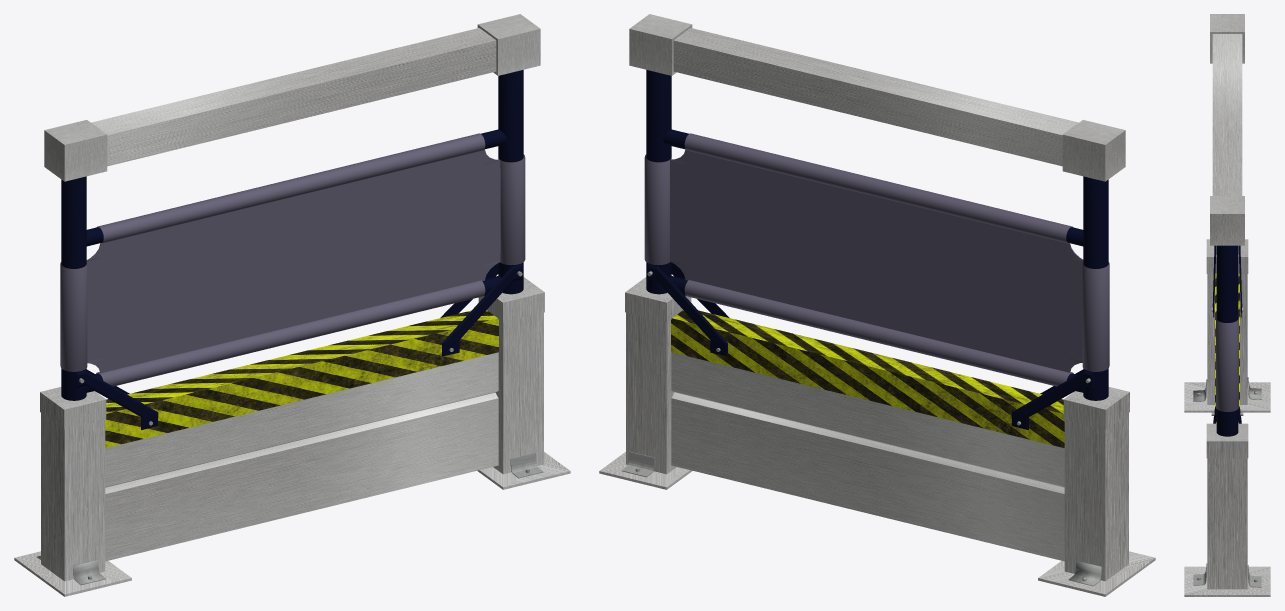
The model's file is Barrier 1.fbx.
The picture shows the model from 3 angles, left to right: view 1: azimuth 30°, elevation 25°; view 2: azimuth 150°, elevation 25°; view 3: azimuth 270°, elevation 25°; orthographic projection. The views are drawn at different scales.
Parts seen in each view (by area): view 1: Plane.008, Cube, Cube.003, Cube.006, Cube.002, Cube.001, Cylinder.008, Cylinder.009, Cube.004, Cylinder.003, Cylinder.010, Cylinder.011 (+4 smaller); view 2: Plane.008, Cube, Cube.003, Cube.006, Cube.002, Cube.001, Cylinder.008, Cylinder.009, Cube.004, Cylinder.003, Cylinder.010, Cylinder.011 (+4 smaller); view 3: Cube.001, Cube.003, Cube.002, Cylinder.002, Cylinder.011, Cube.005, Cube.004, Cube.006, Plane.005, Plane, Plane.007, Plane.002 (+2 smaller).
Part boxes in pixels (bbox=[...]): Plane.008: bbox=[86, 149, 500, 372]; Cube: bbox=[105, 352, 498, 561]; Cube.003: bbox=[91, 28, 496, 166]; Cube.006: bbox=[105, 310, 498, 447]; Cube.002: bbox=[14, 387, 131, 596]; Cube.001: bbox=[477, 277, 570, 489]; Cylinder.008: bbox=[97, 133, 485, 243]; Cylinder.009: bbox=[96, 280, 485, 386]; Cube.004: bbox=[44, 120, 107, 181]; Cylinder.003: bbox=[61, 176, 86, 400]; Cylinder.010: bbox=[60, 262, 87, 371]; Cylinder.011: bbox=[498, 154, 525, 265]; Plane.008: bbox=[670, 149, 1083, 372]; Cube: bbox=[671, 352, 1064, 561]; Cube.003: bbox=[673, 28, 1078, 166]; Cube.006: bbox=[671, 310, 1064, 447]; Cube.002: bbox=[1038, 387, 1155, 596]; Cube.001: bbox=[599, 277, 692, 489]; Cylinder.008: bbox=[684, 133, 1072, 243]; Cylinder.009: bbox=[684, 280, 1073, 386]; Cube.004: bbox=[1062, 120, 1125, 181]; Cylinder.003: bbox=[1083, 176, 1108, 400]; Cylinder.010: bbox=[1082, 262, 1109, 371]; Cylinder.011: bbox=[644, 154, 671, 265]; Cube.001: bbox=[1184, 423, 1270, 596]; Cube.003: bbox=[1212, 34, 1242, 195]; Cube.002: bbox=[1184, 239, 1270, 412]; Cylinder.002: bbox=[1216, 245, 1238, 436]; Cylinder.011: bbox=[1216, 317, 1238, 411]; Cube.005: bbox=[1210, 196, 1244, 245]; Cube.004: bbox=[1210, 14, 1244, 63]; Cube.006: bbox=[1215, 273, 1239, 423]; Plane.005: bbox=[1247, 377, 1261, 399]; Plane: bbox=[1193, 563, 1207, 585]; Plane.007: bbox=[1193, 379, 1207, 401]; Plane.002: bbox=[1247, 565, 1261, 587].
Bounding box in the file's own units: 747 × 617 × 128.
Materials: 5 (4 with a texture image).
